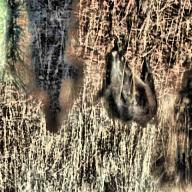boar: (85, 44, 188, 146)
